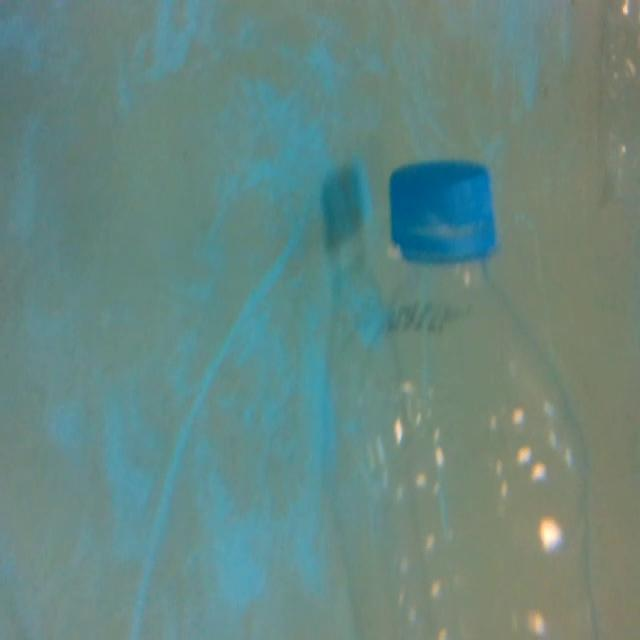plastic bottle: (349, 152, 607, 640)
